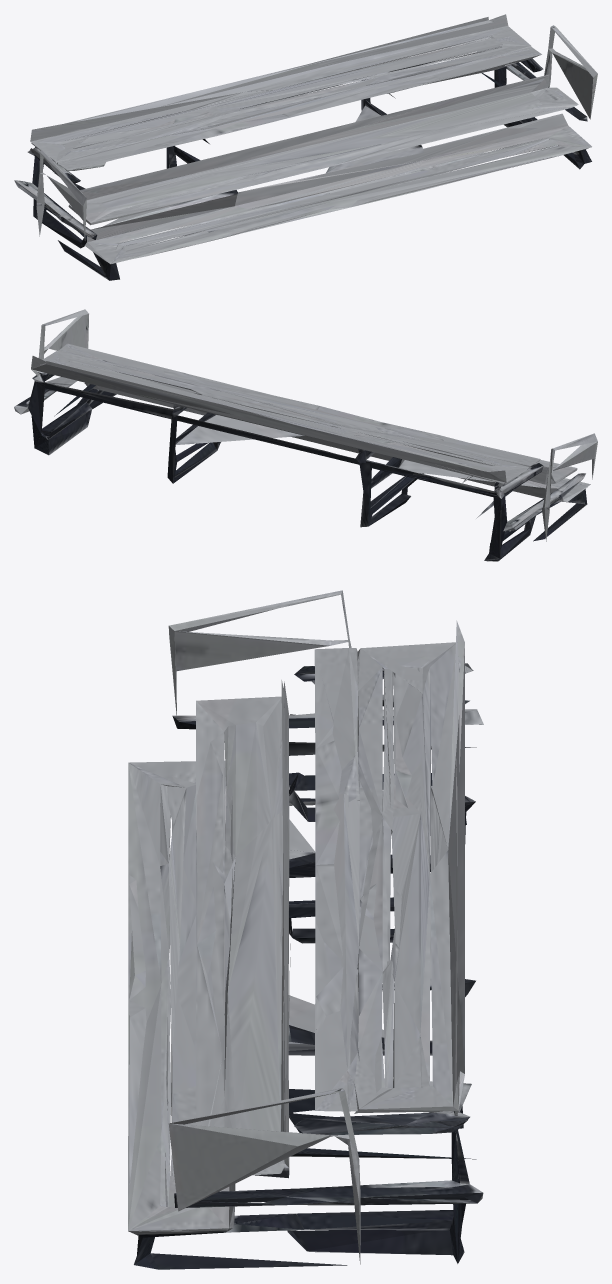
File: bleacher_hall_low.glb
3 views of the same model, one above another, from view 1: azimuth 30°, elevation 25°; view 2: azimuth 150°, elevation 25°; view 3: azimuth 270°, elevation 25° (orthographic). The views are drawn at different scales.
Parts seen in each view (by area): view 1: m; view 2: m; view 3: m.
Part boxes in pixels (<box>): m: <box>14,14,597,280</box>; m: <box>14,309,597,561</box>; m: <box>128,590,483,1269</box>.
Size of the model in its own units: 8.04 by 1.5 by 2.42.
1 material, 1 textured.
